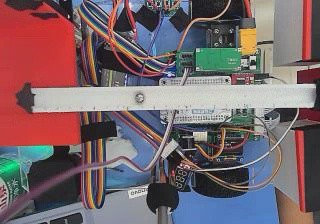ironball: (133, 91, 143, 102)
